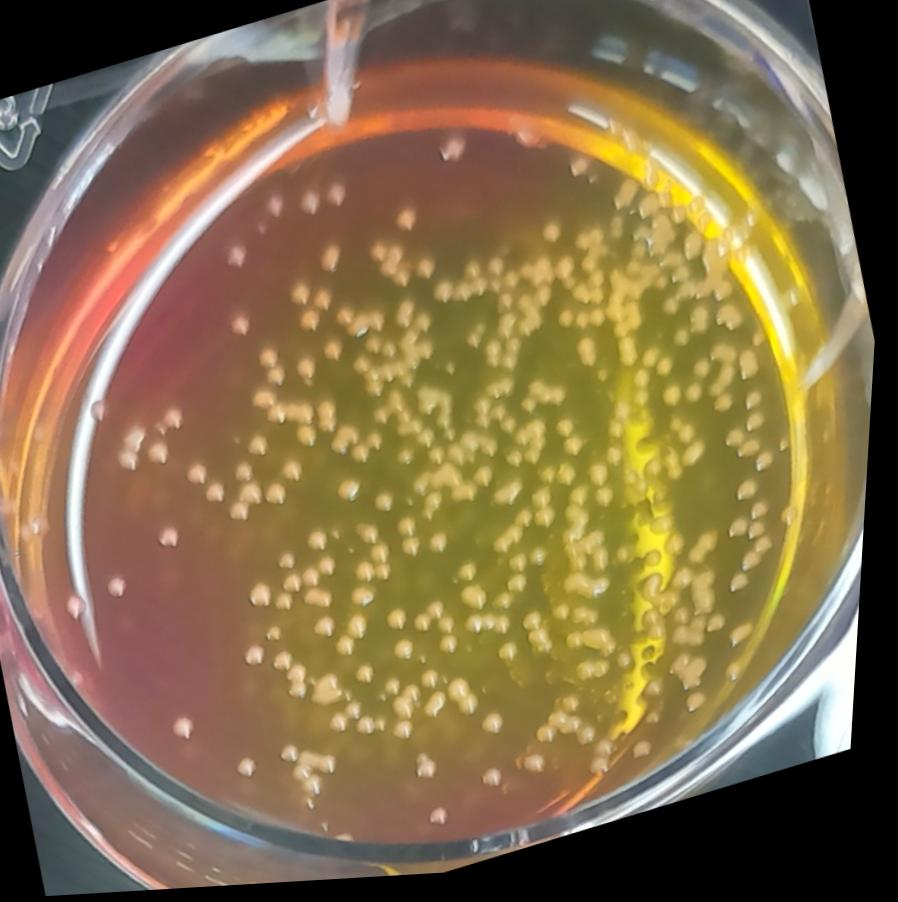staphylo-: (491, 513, 547, 563), (571, 626, 629, 673), (565, 569, 622, 616), (266, 395, 324, 438), (467, 609, 523, 650), (523, 379, 574, 422), (452, 678, 494, 726), (462, 584, 500, 623), (574, 339, 608, 380), (315, 244, 351, 280), (338, 474, 373, 510), (333, 425, 370, 459), (485, 377, 523, 410), (241, 479, 275, 514), (388, 607, 422, 642), (250, 580, 283, 615), (347, 612, 380, 647), (318, 400, 347, 439), (356, 521, 391, 553), (309, 586, 344, 618), (584, 662, 621, 692), (315, 613, 348, 646), (392, 302, 425, 335), (226, 314, 260, 346), (428, 694, 460, 728), (533, 632, 565, 665), (297, 355, 328, 389), (575, 608, 611, 637), (485, 715, 518, 746), (284, 457, 315, 489), (223, 245, 254, 277), (268, 481, 298, 513), (296, 426, 326, 458), (376, 490, 405, 523), (265, 365, 295, 396), (496, 315, 526, 346), (348, 317, 378, 348), (431, 533, 461, 563), (354, 585, 384, 615), (339, 632, 367, 664), (299, 310, 329, 339), (309, 530, 339, 559), (324, 339, 352, 370), (532, 489, 563, 517), (230, 498, 259, 527), (278, 549, 307, 578), (278, 591, 307, 620), (249, 434, 279, 462), (235, 460, 263, 490), (403, 536, 433, 564), (400, 516, 428, 546), (398, 638, 426, 668), (532, 546, 560, 576), (458, 564, 489, 591), (284, 573, 312, 602), (352, 444, 380, 472), (321, 556, 348, 584), (305, 565, 332, 593), (444, 638, 471, 666), (537, 511, 565, 538), (255, 389, 285, 414), (313, 290, 340, 317), (373, 543, 400, 570), (511, 556, 538, 583), (417, 343, 444, 370), (396, 449, 424, 475), (509, 577, 537, 603), (258, 348, 285, 374), (378, 564, 405, 590), (418, 614, 444, 641), (526, 614, 552, 641), (534, 288, 559, 316), (429, 601, 455, 627), (558, 312, 584, 338), (368, 433, 393, 459), (426, 671, 451, 697), (486, 258, 511, 284), (443, 616, 467, 643), (291, 286, 316, 311), (501, 593, 525, 618), (506, 339, 531, 363), (361, 562, 385, 586), (370, 312, 393, 337), (375, 407, 398, 432), (505, 645, 528, 668), (558, 609, 580, 630), (500, 297, 522, 318)
